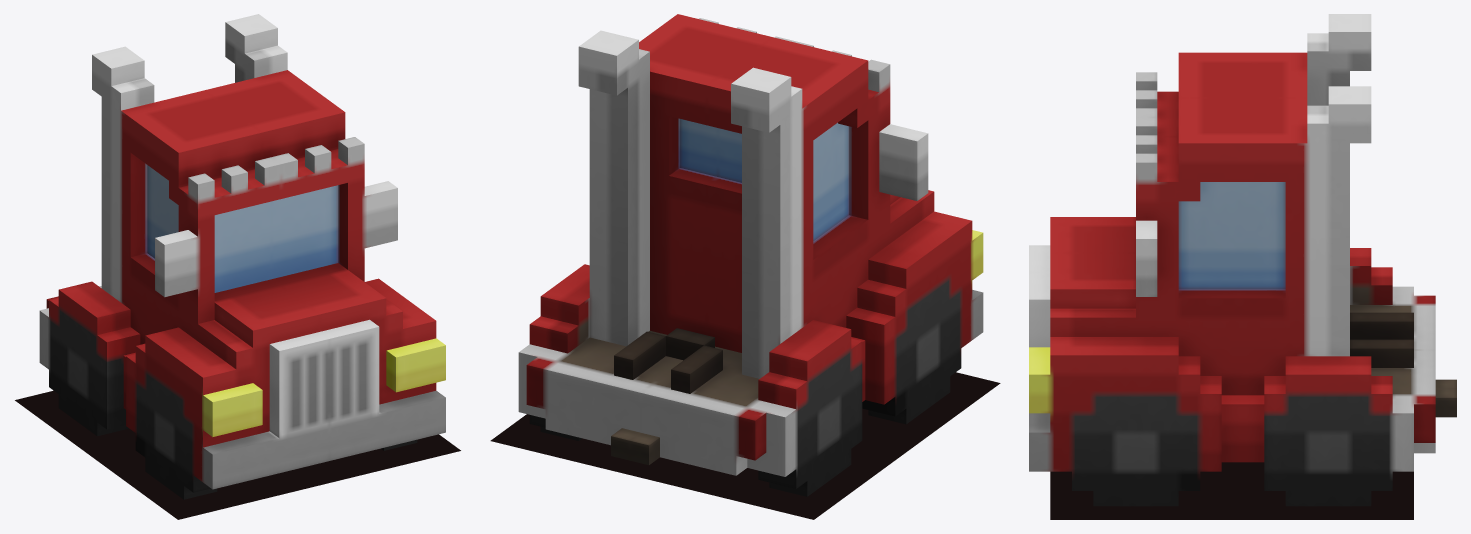
The model's file is truck_head.FBX.
3 renders of one model, left to right at view 1: azimuth 30°, elevation 25°; view 2: azimuth 150°, elevation 25°; view 3: azimuth 270°, elevation 25°, orthographic. The views are drawn at different scales.
Visible parts, largest first — view 1: truck, truck_head_soft_shadow; view 2: truck, truck_head_soft_shadow; view 3: truck, truck_head_soft_shadow.
Boxes of the visible parts, bbox=[...] form: truck: bbox=[39, 14, 445, 499]; truck_head_soft_shadow: bbox=[15, 390, 460, 519]; truck: bbox=[518, 14, 983, 496]; truck_head_soft_shadow: bbox=[490, 372, 1000, 519]; truck: bbox=[1029, 14, 1456, 506]; truck_head_soft_shadow: bbox=[1050, 462, 1413, 519].
Size of the model in its own units: 850 by 1000 by 1000.
